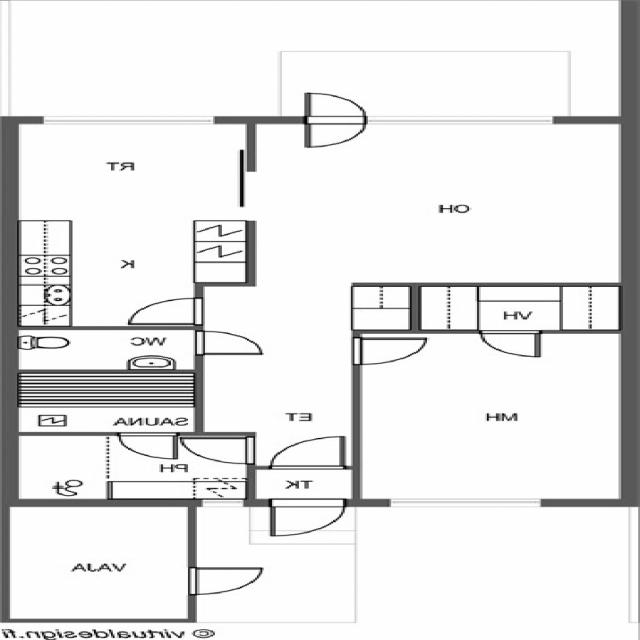door: (270, 499, 346, 536), (271, 437, 344, 469), (179, 436, 254, 464), (188, 567, 263, 594), (306, 116, 365, 148), (353, 338, 425, 364), (132, 298, 203, 324), (306, 93, 365, 124), (196, 331, 261, 355), (119, 432, 177, 458), (482, 330, 540, 356)
